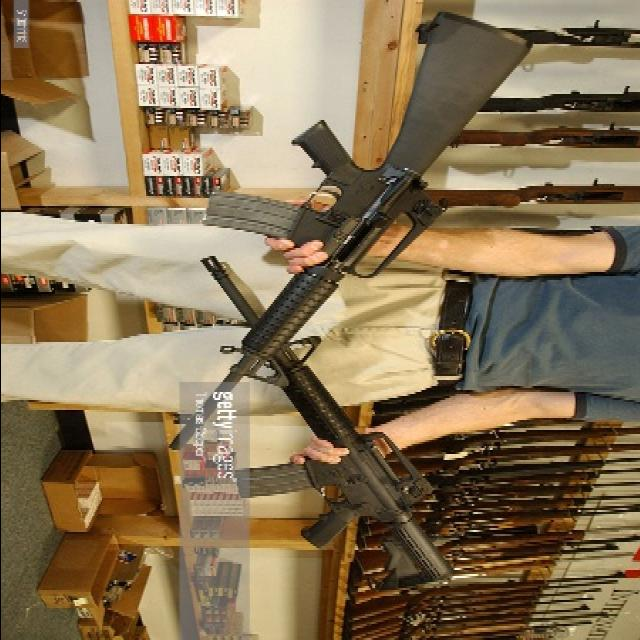rifle: (162, 9, 540, 461), (193, 243, 466, 595)
